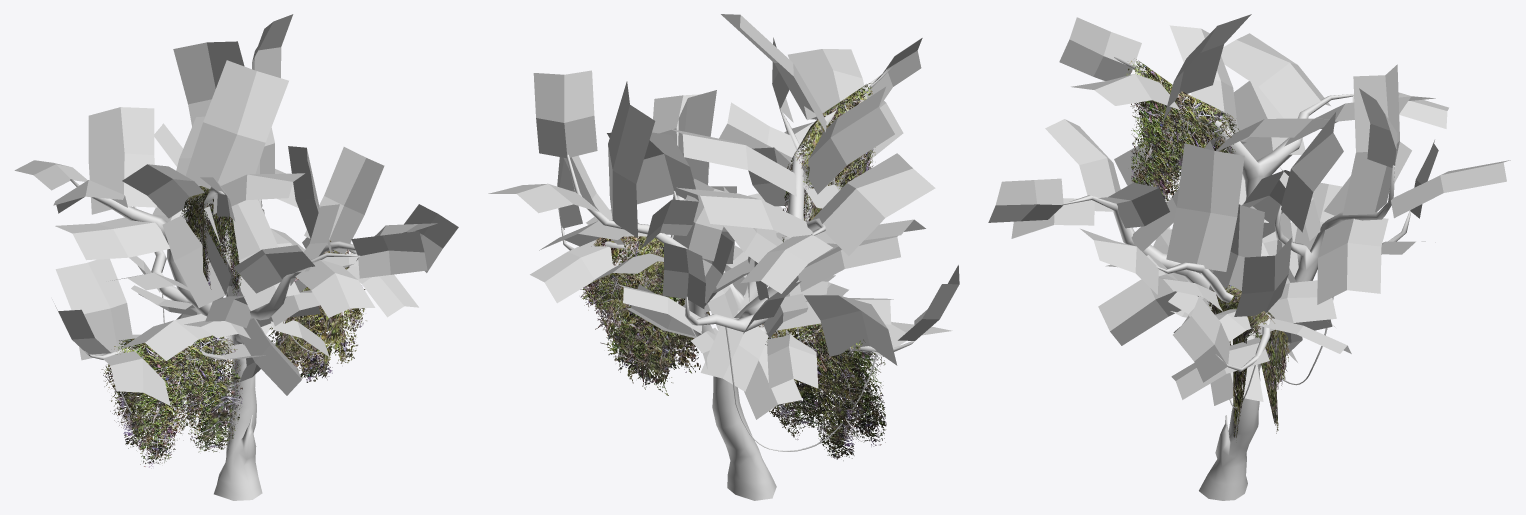
File: Tree 1 v2 - LOD 0.fbx
3 renders of one model, left to right at view 1: azimuth 30°, elevation 25°; view 2: azimuth 150°, elevation 25°; view 3: azimuth 270°, elevation 25°, orthographic. The views are drawn at different scales.
Parts seen in each view (by area): view 1: Branches 1 v2 - LOD 0, Hanging Moss 1 v2 - LOD 0, Bark 1 v2 - LOD 0; view 2: Branches 1 v2 - LOD 0, Hanging Moss 1 v2 - LOD 0, Bark 1 v2 - LOD 0, Vines 1 v2 - LOD 0; view 3: Branches 1 v2 - LOD 0, Bark 1 v2 - LOD 0, Hanging Moss 1 v2 - LOD 0.
Part boxes in pixels (x1=…): Branches 1 v2 - LOD 0: x1=14, y1=14, x2=458, y2=405; Hanging Moss 1 v2 - LOD 0: x1=101, y1=186, x2=366, y2=468; Bark 1 v2 - LOD 0: x1=70, y1=179, x2=360, y2=500; Branches 1 v2 - LOD 0: x1=488, y1=14, x2=959, y2=419; Hanging Moss 1 v2 - LOD 0: x1=580, y1=83, x2=886, y2=460; Bark 1 v2 - LOD 0: x1=559, y1=64, x2=915, y2=500; Vines 1 v2 - LOD 0: x1=617, y1=304, x2=876, y2=451; Branches 1 v2 - LOD 0: x1=988, y1=14, x2=1510, y2=405; Bark 1 v2 - LOD 0: x1=1061, y1=57, x2=1411, y2=500; Hanging Moss 1 v2 - LOD 0: x1=1126, y1=59, x2=1290, y2=437.
Bounding box in the file's own units: 23.85 × 25.4 × 25.32.
